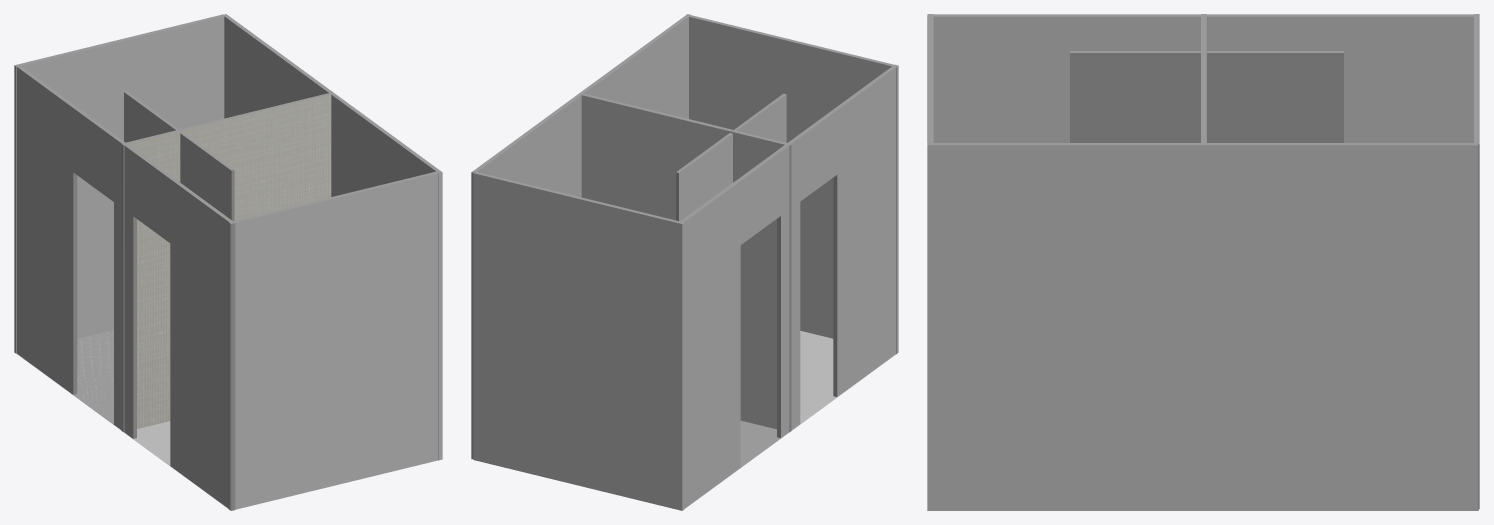
File: banheiro_tex_correto.fbx
3 renders of one model, left to right at view 1: azimuth 30°, elevation 25°; view 2: azimuth 150°, elevation 25°; view 3: azimuth 270°, elevation 25°, orthographic. The views are drawn at different scales.
Parts seen in each view (by area): view 1: banheiro_texturizado:polySurface298; view 2: banheiro_texturizado:polySurface298; view 3: banheiro_texturizado:polySurface298.
Part boxes in pixels (box(x1,y1,x2,y2)): banheiro_texturizado:polySurface298: box(14, 14, 442, 510); banheiro_texturizado:polySurface298: box(471, 14, 898, 510); banheiro_texturizado:polySurface298: box(927, 14, 1479, 510).
Size of the model in its own units: 616 by 803 by 1093.
